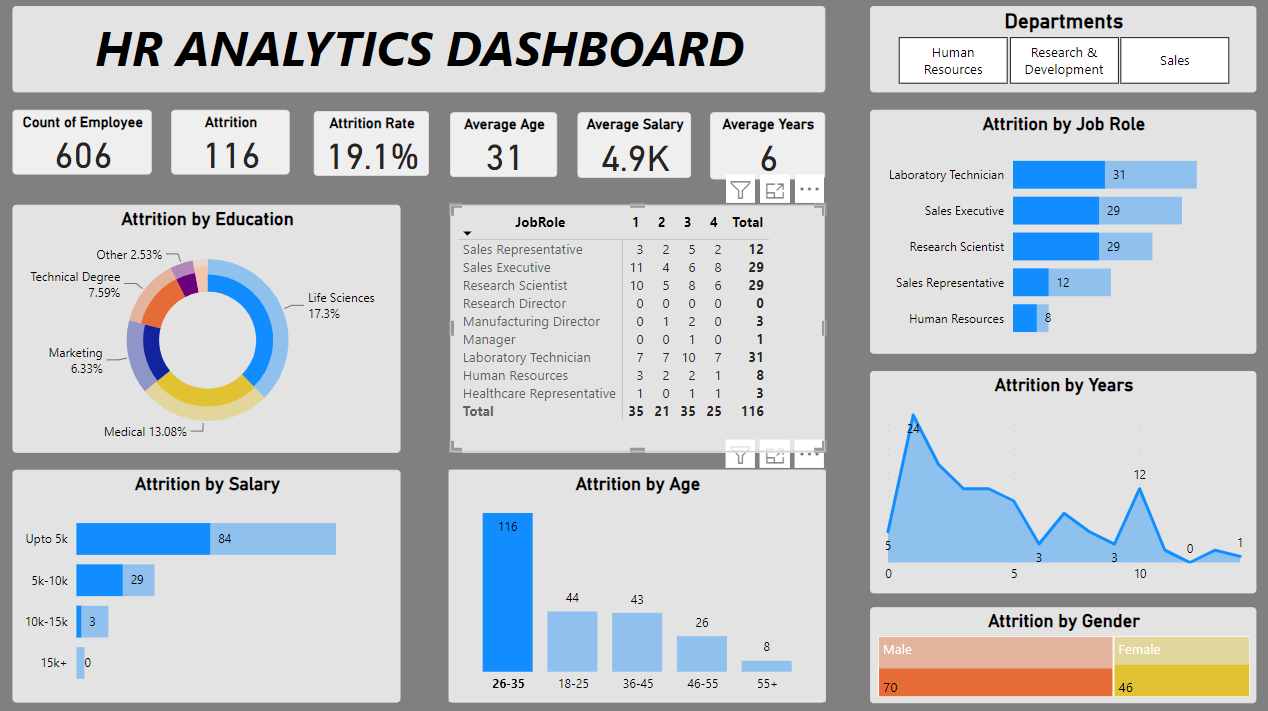

What the dashboard file says about the page in this screenshot:
{"tool":"powerbi","page":{"name":"Page 1","canvas":[1280,720],"ordinal":0},"visuals":[{"type":"card","title":"Count of Employee","fields":{"Values":["CountNonNull(HR_Analytics.EmpID)"]},"box":[17,113.8,139.4,64.9],"z":0},{"type":"card","title":"Attrition","fields":{"Values":["Sum(HR_Analytics.AttritionCount)"]},"box":[176.6,113.8,118.1,64.9],"z":1000},{"type":"card","title":"Attrition Rate","fields":{"Values":["HR_Analytics.AttritionRate"]},"box":[319.1,114.9,114.9,64.9],"z":2000},{"type":"card","title":"Average Age ","fields":{"Values":["Avg(HR_Analytics.Age)"]},"box":[455.3,116,107.4,64.9],"z":3000},{"type":"card","title":"Average Salary","fields":{"Values":["Avg(HR_Analytics.MonthlyIncome)"]},"box":[583,116,113.8,66],"z":4000},{"type":"card","title":"Average Years ","fields":{"Values":["Avg(HR_Analytics.YearsAtCompany)"]},"box":[714.9,116,114.9,67],"z":5000},{"type":"donutChart","title":"Attrition by Education","fields":{"Category":["HR_Analytics.EducationField"],"Y":["Sum(HR_Analytics.AttritionCount)"]},"box":[17,208.5,388.3,247.9],"z":6000},{"type":"columnChart","title":"Attrition by Age","fields":{"Category":["HR_Analytics.AgeGroup"],"Y":["Sum(HR_Analytics.AttritionCount)"]},"box":[453.2,473.4,376.6,233],"z":7000},{"type":"pivotTable","fields":{"Rows":["HR_Analytics.JobRole"],"Columns":["HR_Analytics.JobSatisfaction"],"Values":["Sum(HR_Analytics.AttritionCount)"]},"box":[455.3,208.5,374.5,247.9],"z":8000},{"type":"barChart","title":"Attrition by Salary","fields":{"Category":["HR_Analytics.SalarySlab"],"Y":["Sum(HR_Analytics.AttritionCount)"]},"box":[17,473.4,388.3,233],"z":9000},{"type":"barChart","title":"Attrition by Job Role","fields":{"Category":["HR_Analytics.JobRole"],"Y":["Sum(HR_Analytics.AttritionCount)"]},"box":[875.5,113.8,386.2,243.6],"z":10000},{"type":"areaChart","title":"Attrition by Years","fields":{"Category":["HR_Analytics.YearsAtCompany"],"Y":["Sum(HR_Analytics.AttritionCount)"]},"box":[875,375,386.2,222.5],"z":11000},{"type":"treemap","title":"Attrition by Gender","fields":{"Group":["HR_Analytics.Gender"],"Values":["Sum(HR_Analytics.AttritionCount)"]},"box":[875.5,610.6,386.2,95.7],"z":12000},{"type":"slicer","title":"Departments","fields":{"Values":["HR_Analytics.Department"]},"box":[875.5,9.6,386.2,86.2],"z":13000},{"type":"textbox","box":[17,9.6,812.8,86.2],"z":14000}]}

Visuals, with their boxes in screenshot pixels (x1, y1, x2, y2), scaled from the page's 1280x720 canvas onto the 1268x711 screenshot:
"Count of Employee" card: l=17, t=112, r=155, b=176
"Attrition" card: l=175, t=112, r=292, b=176
"Attrition Rate" card: l=316, t=113, r=430, b=178
"Average Age " card: l=451, t=115, r=557, b=179
"Average Salary" card: l=578, t=115, r=690, b=180
"Average Years " card: l=708, t=115, r=822, b=181
"Attrition by Education" donutChart: l=17, t=206, r=402, b=451
"Attrition by Age" columnChart: l=449, t=467, r=822, b=698
pivotTable - HR_Analytics.JobRole x HR_Analytics.JobSatisfaction: l=451, t=206, r=822, b=451
"Attrition by Salary" barChart: l=17, t=467, r=402, b=698
"Attrition by Job Role" barChart: l=867, t=112, r=1250, b=353
"Attrition by Years" areaChart: l=867, t=370, r=1249, b=590
"Attrition by Gender" treemap: l=867, t=603, r=1250, b=697
"Departments" slicer: l=867, t=9, r=1250, b=95
textbox: l=17, t=9, r=822, b=95
